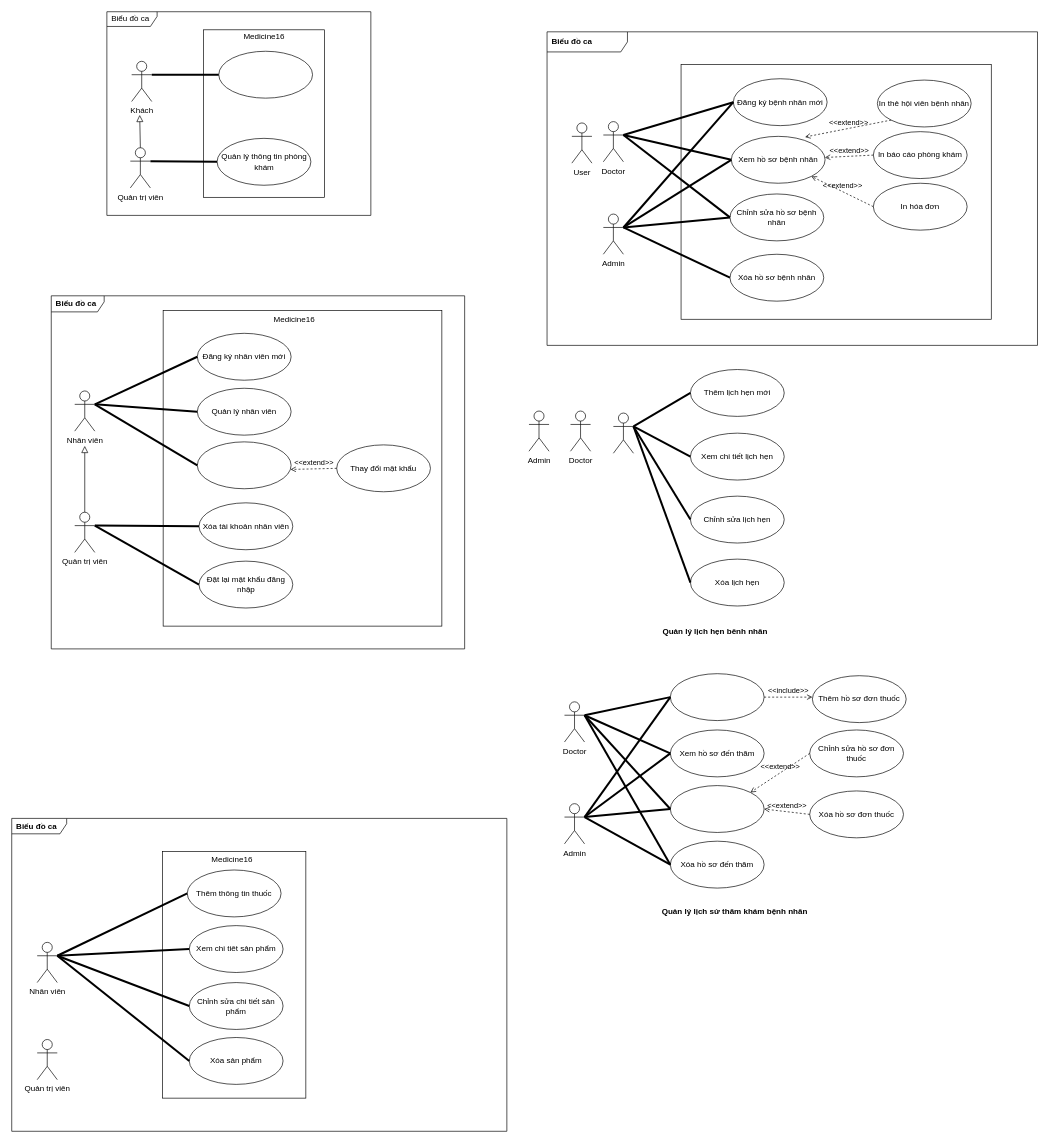
Image size: 1049x1143. Some labels were removed from this diagram. The shapes that lost their labels are listed below. From the top down, each one's centre as x and y in pixels, then its label:
(265,74): Xem thông tin phòng khám
(623,432): Staff
(244,465): Quản lý tài khoản
(717,697): Thêm hồ sơ đến thăm
(717,808): Chỉnh sửa hồ sơ đến thăm
